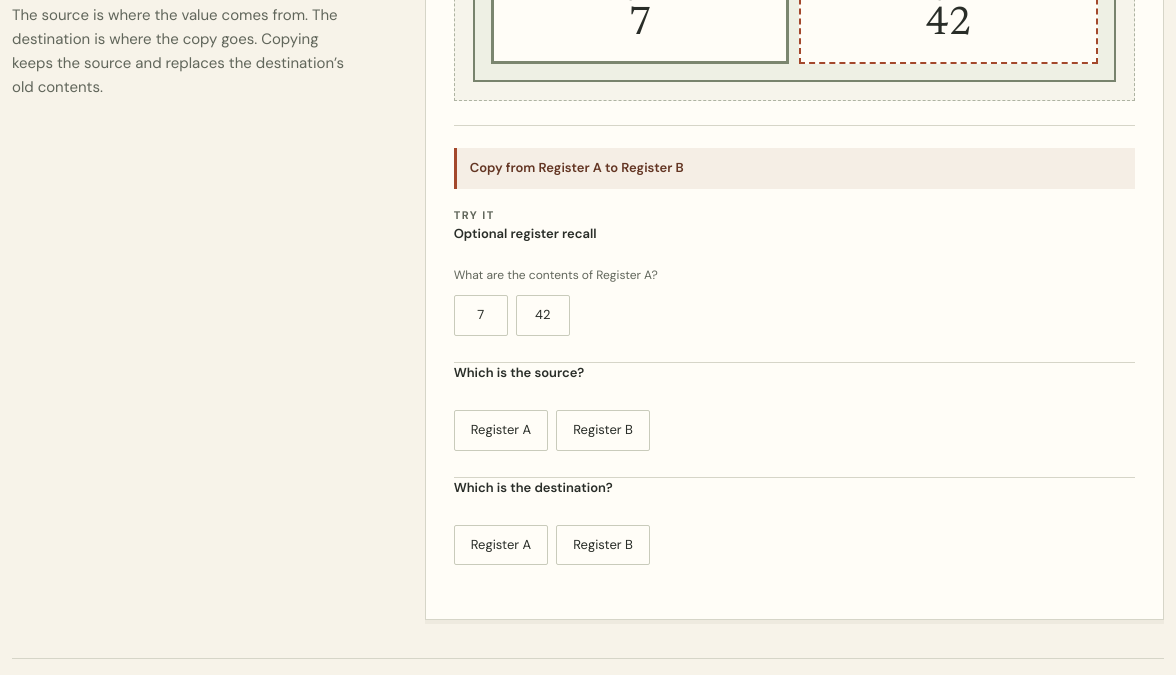
Test: optional register recall offers recovery without gating the lesson
(page scrolled)
Click the button "42".
click(543, 316)  # box [516,295,570,336]
(page scrolled)
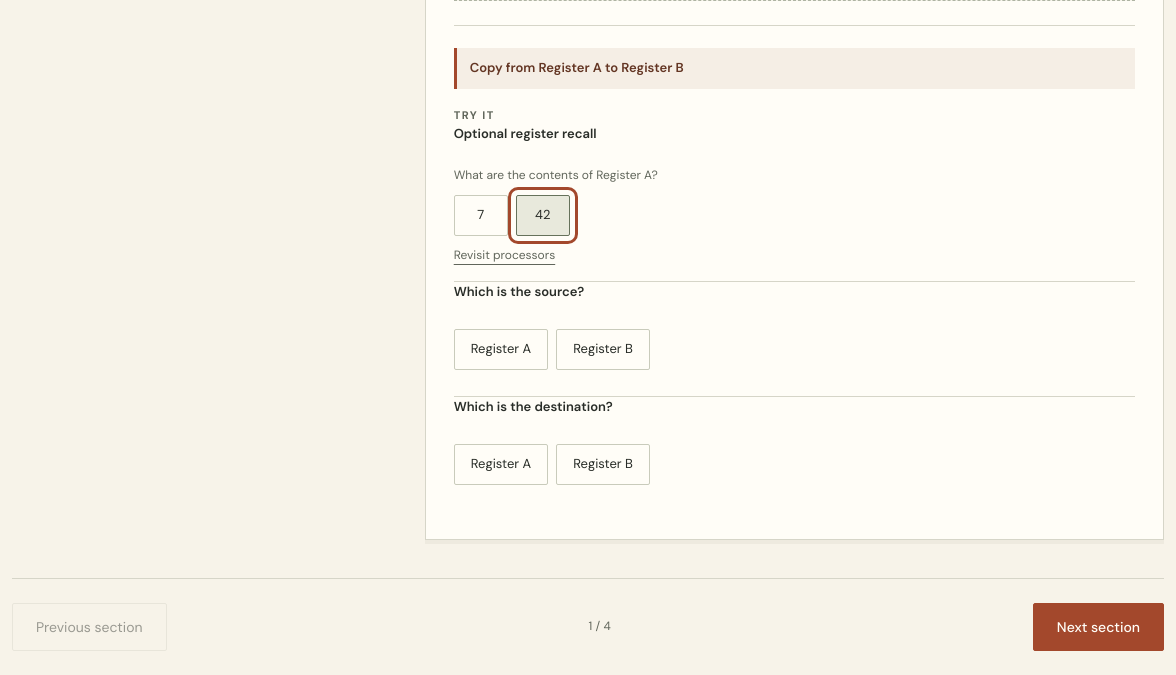
Click the button "Next section".
click(1098, 627)  # box [1033,603,1164,651]
(page scrolled)
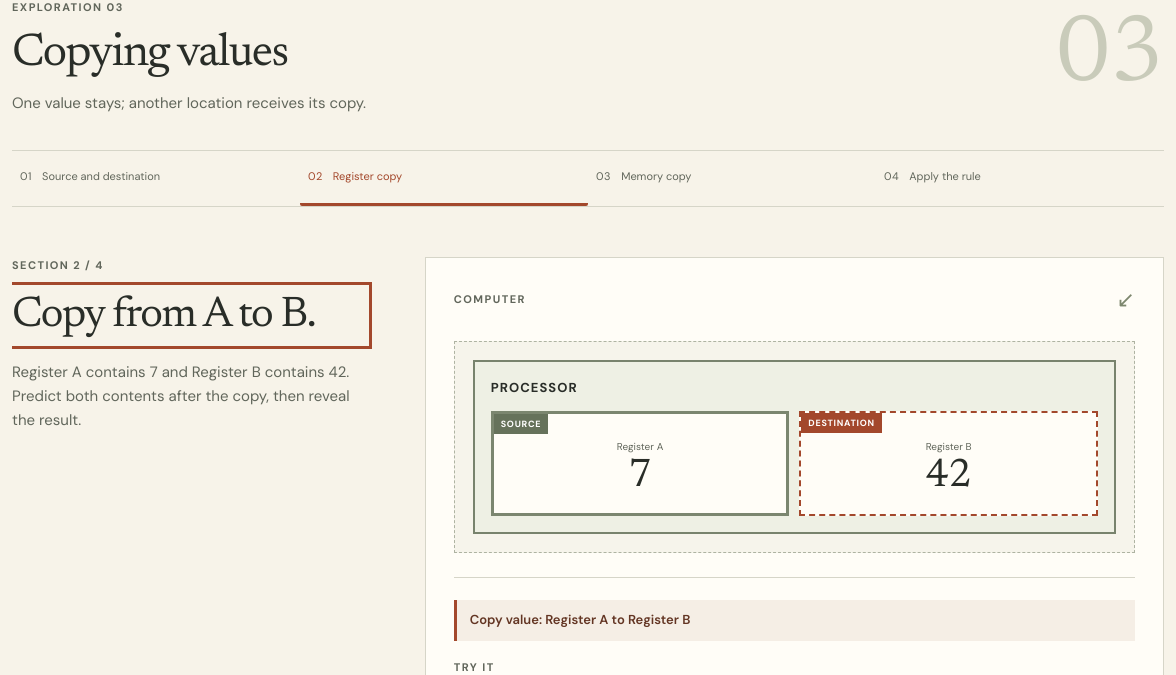
Check: the heading "Copy from A to B." is shown, box [12,292,362,339]
